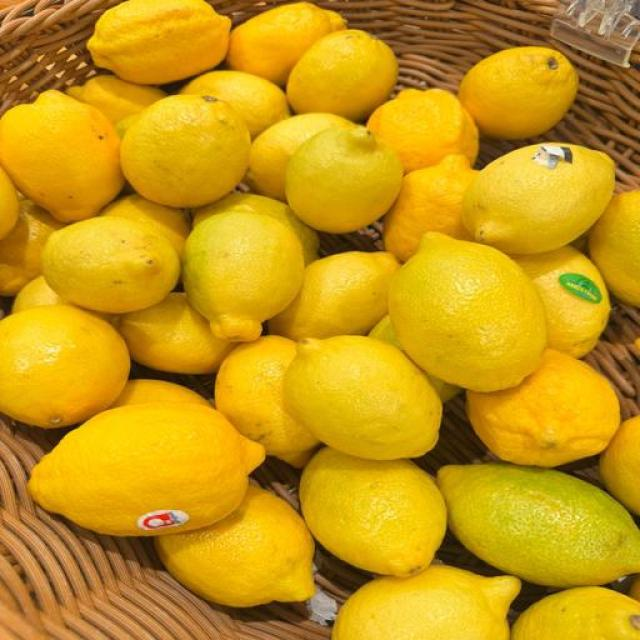organic: (318, 0, 639, 189), (438, 464, 639, 587), (183, 212, 303, 341), (512, 587, 639, 639), (559, 273, 602, 303), (368, 315, 402, 349)
